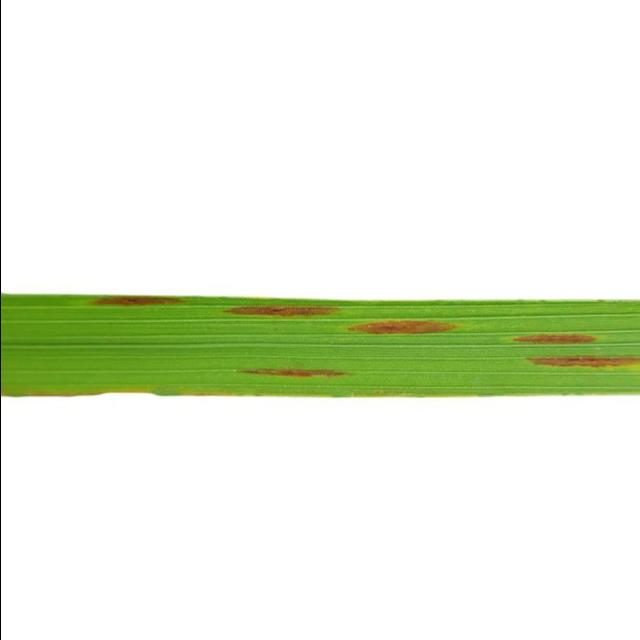Narrow brown: (0, 256, 640, 430)
